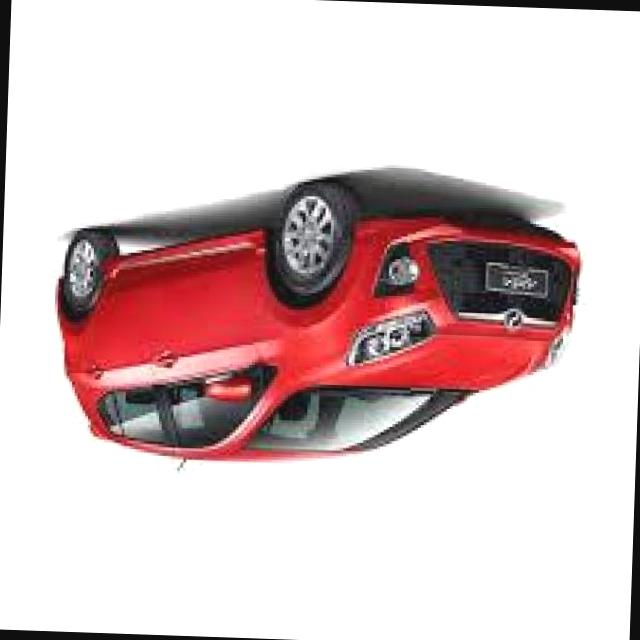PeroduaAxia: (49, 169, 585, 484)
